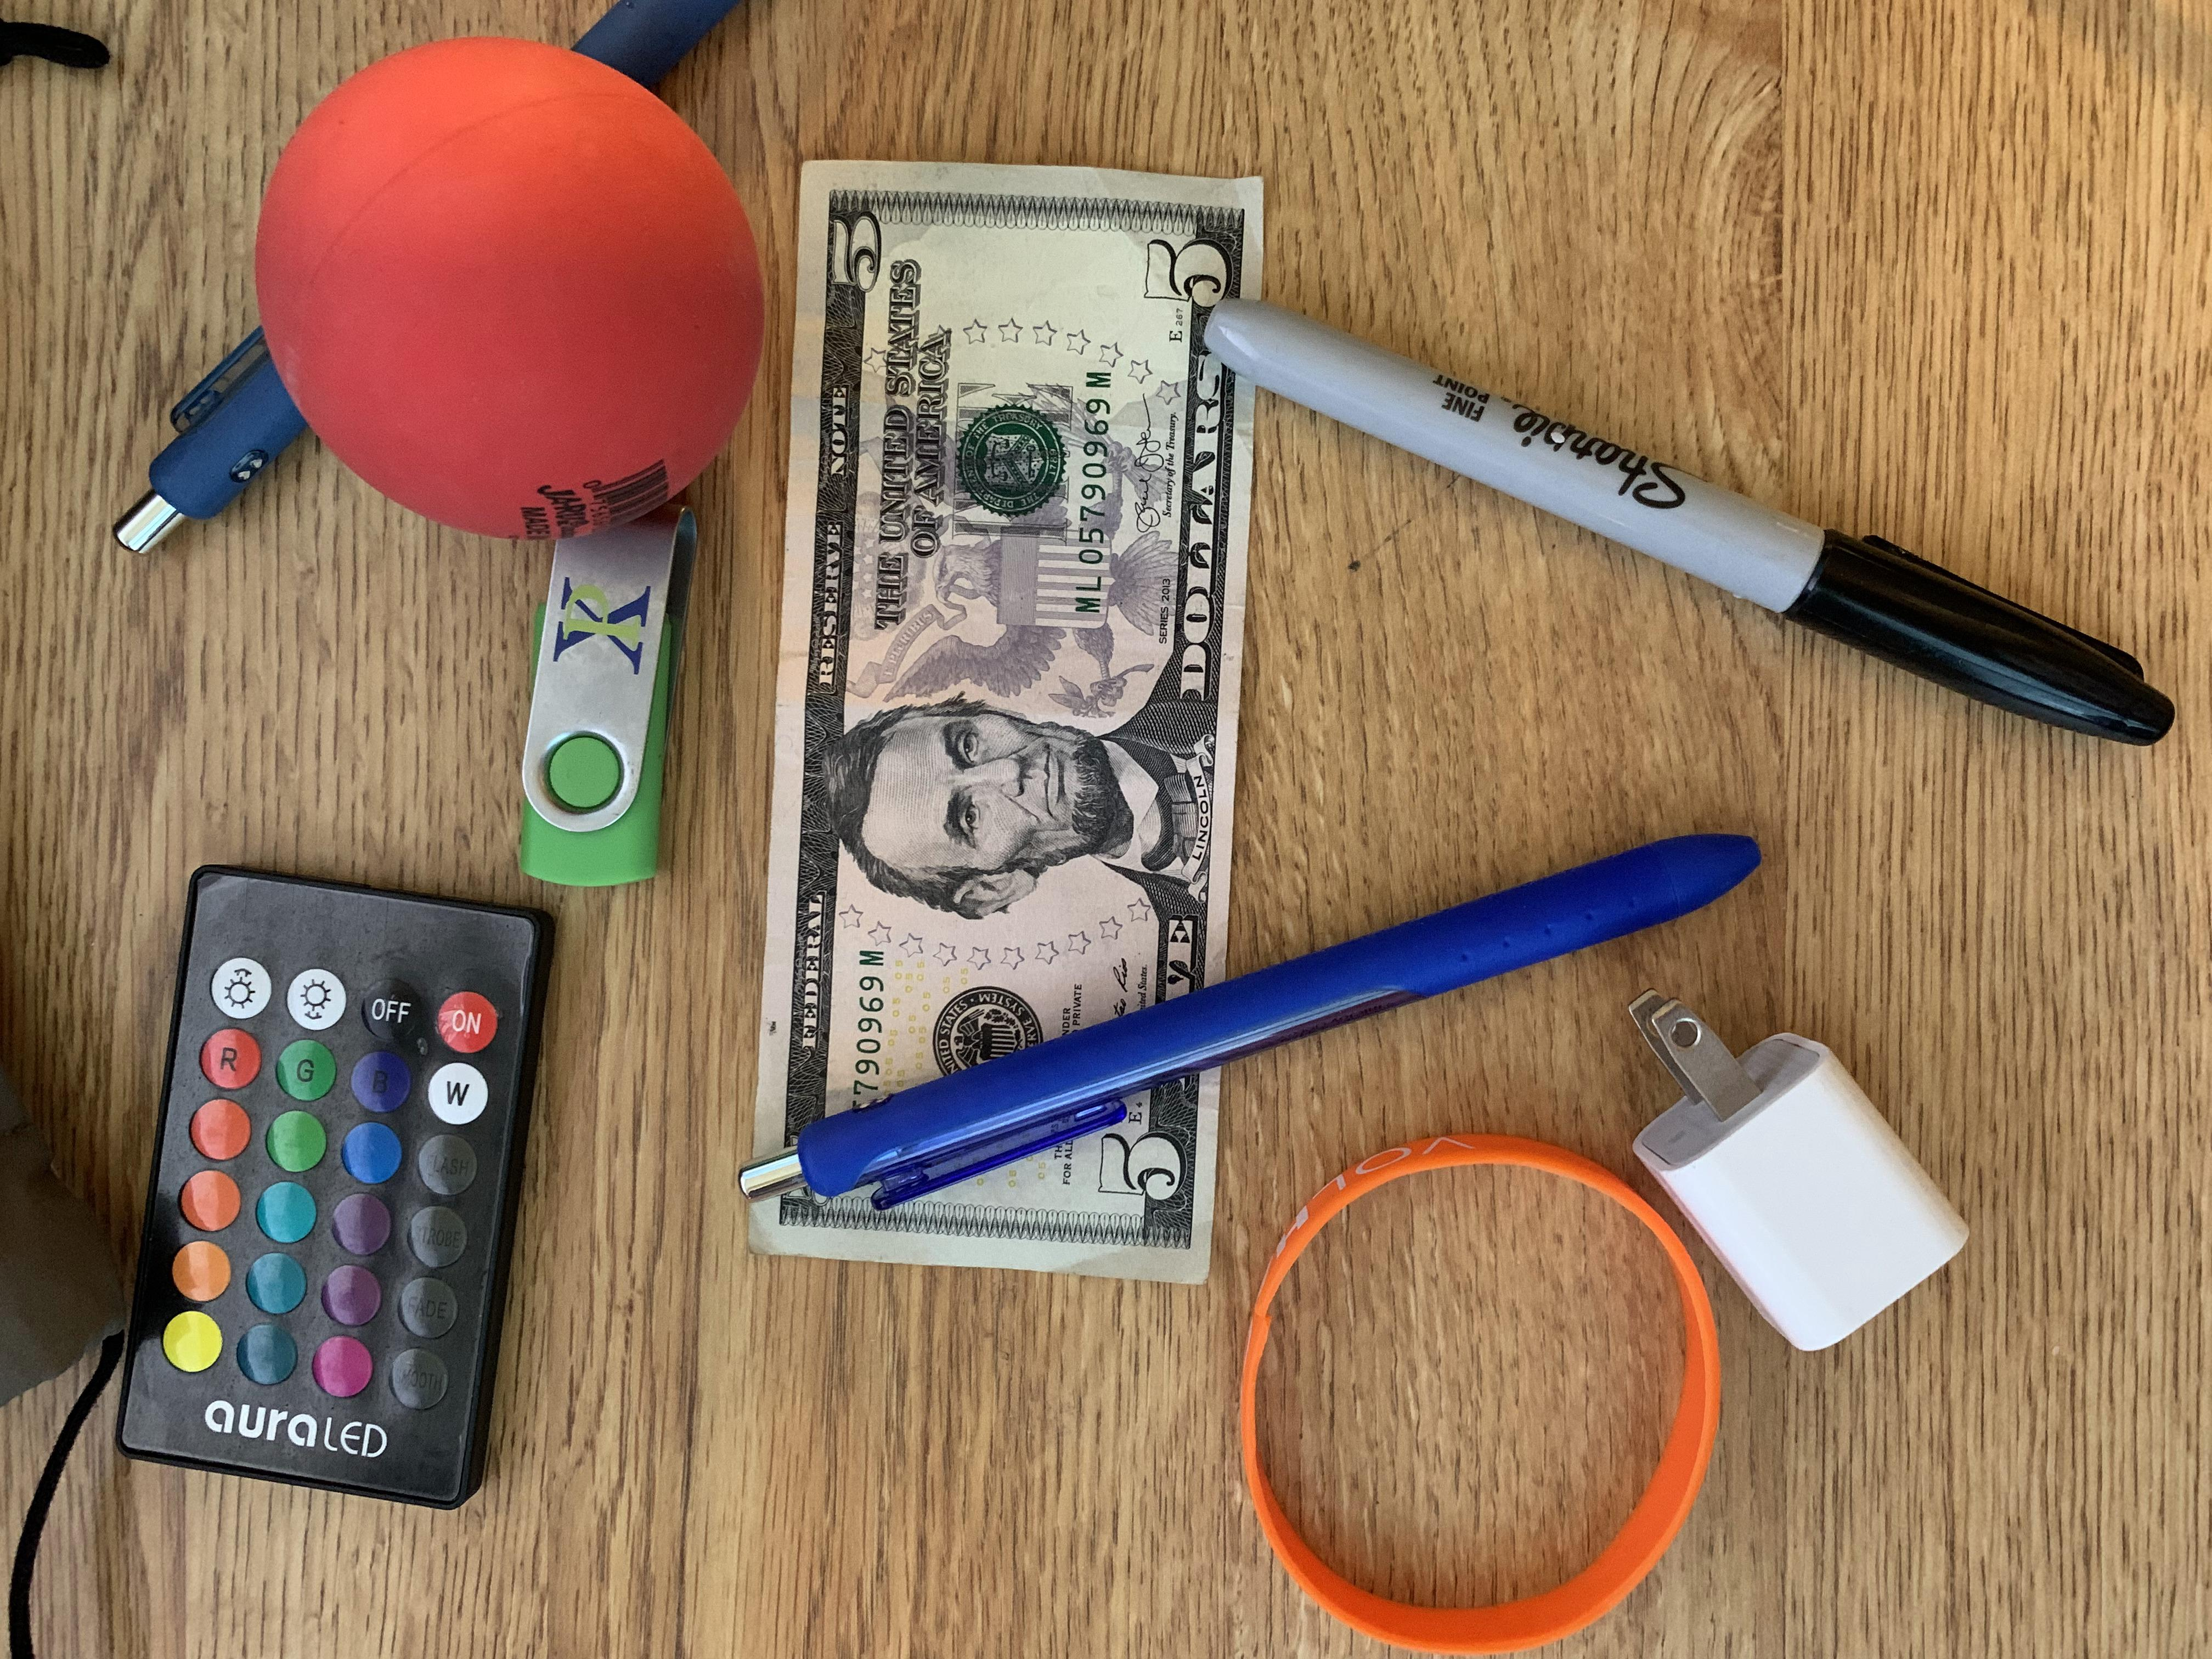FiveBill: (742, 146, 1350, 1298)
